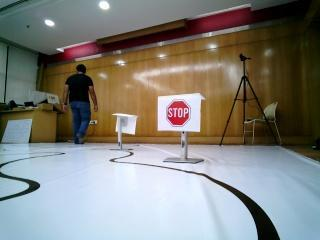stop: (160, 96, 197, 131)
